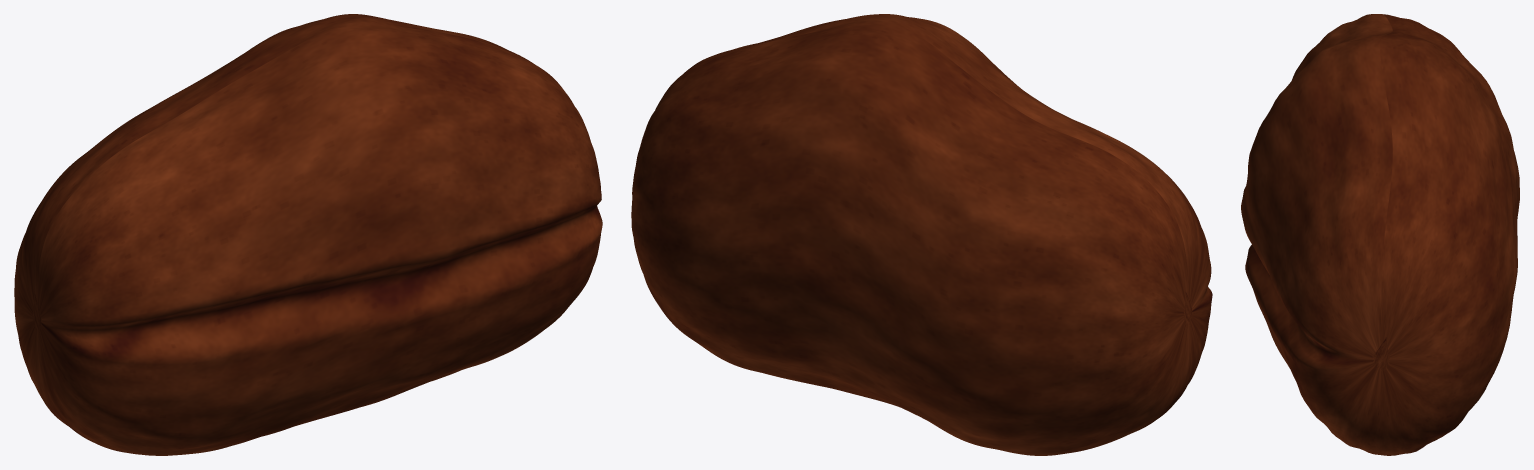
Rendered from maragogipe.glb.
3 renders of one model, left to right at view 1: azimuth 30°, elevation 25°; view 2: azimuth 150°, elevation 25°; view 3: azimuth 270°, elevation 25°, orthographic. The views are drawn at different scales.
Parts seen in each view (by area): view 1: Cafe_maragogipe; view 2: Cafe_maragogipe; view 3: Cafe_maragogipe.
Part boxes in pixels (x1,y1,x2,y2): Cafe_maragogipe: (14,14,602,455); Cafe_maragogipe: (631,14,1212,455); Cafe_maragogipe: (1241,14,1519,455).
Size of the model in its own units: 0.0158 by 0.0109 by 0.00756.
1 material, 1 textured.
